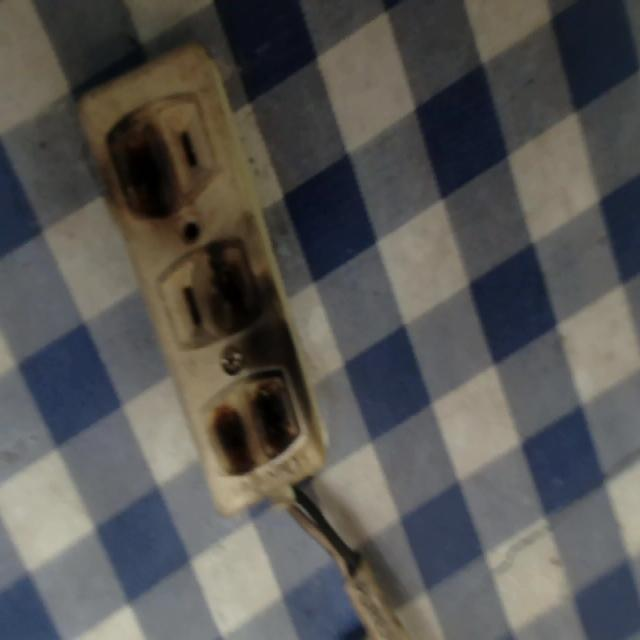-: (198, 368, 305, 481), (102, 111, 180, 236), (199, 229, 269, 339)
